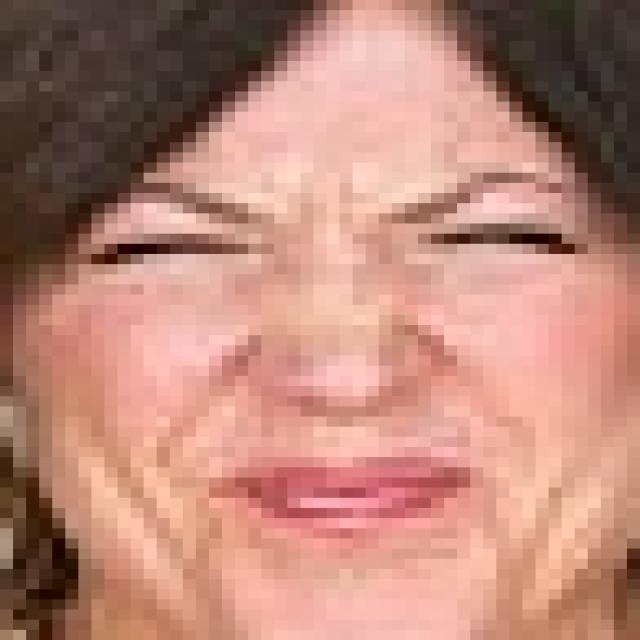Anxiety: (23, 5, 627, 630)
